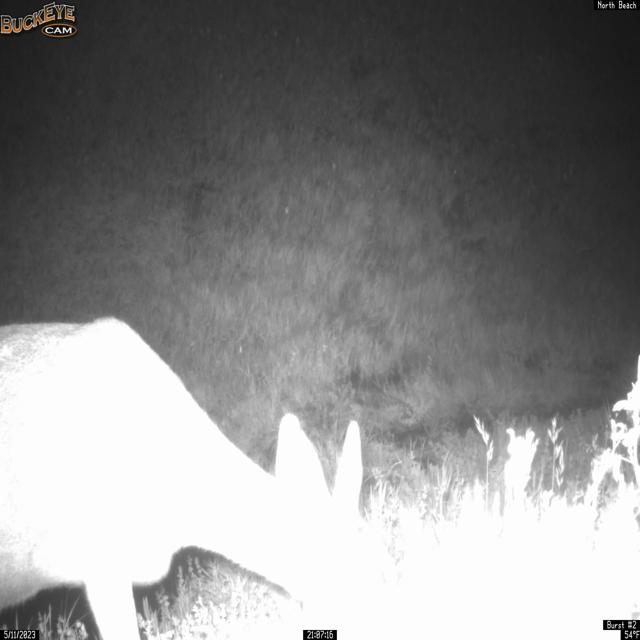deer: (0, 315, 398, 640)
